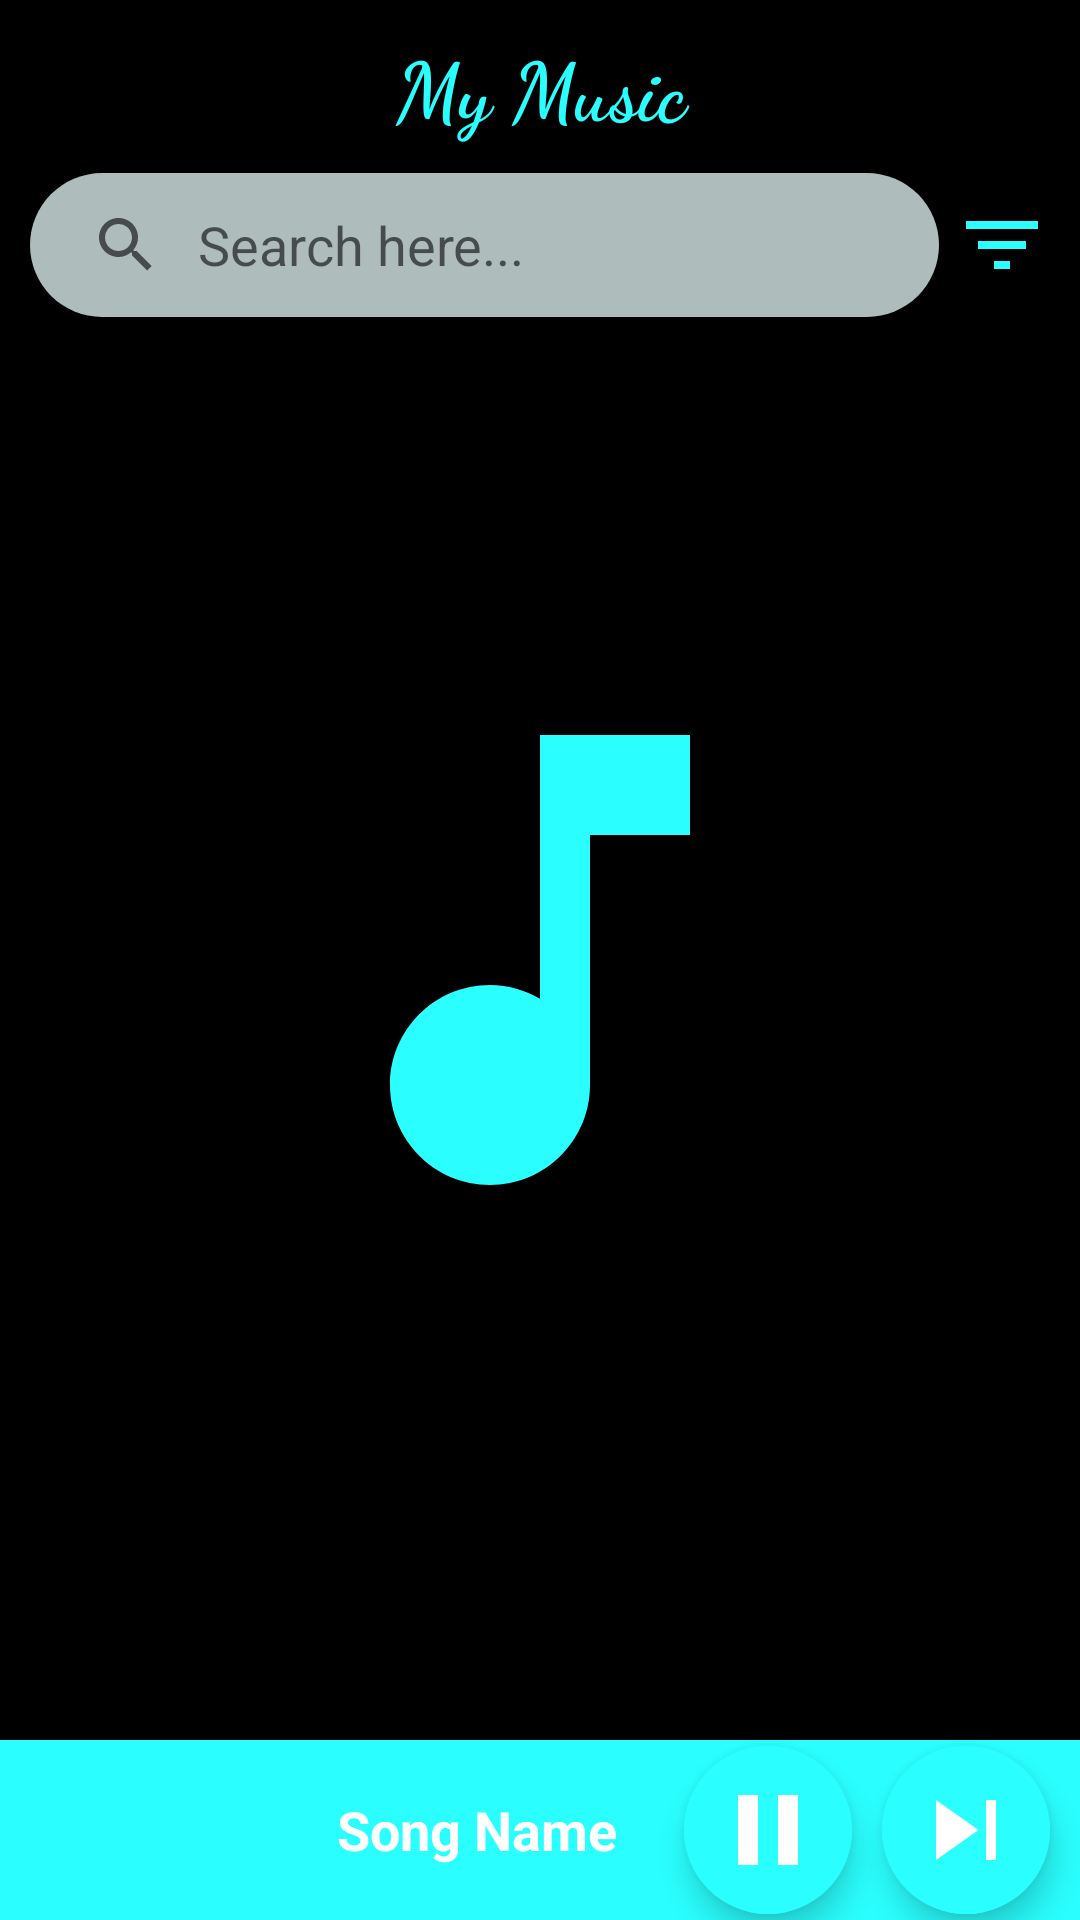

Icon bounding boxes for this 1080 x 1920 phone screenshot, format (x1, y1, x2, y2):
filter: (966, 221, 1038, 269)
next: (889, 1800, 996, 1867)
